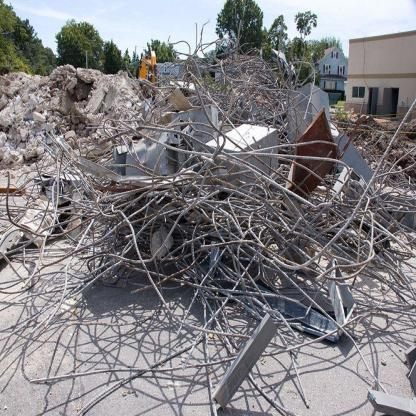rebar: (3, 35, 415, 415)
